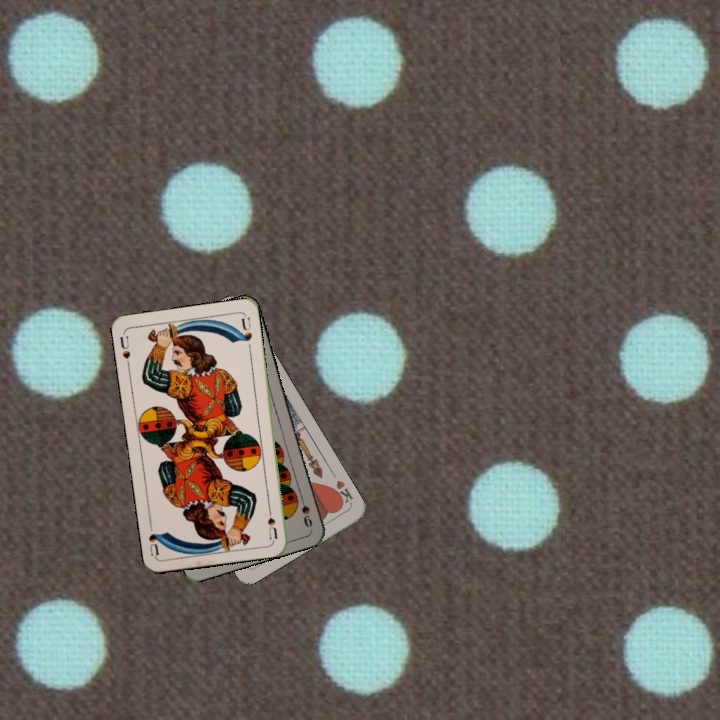HK: (328, 476, 355, 508)
S9: (296, 490, 315, 530)
SU: (263, 500, 281, 541), (116, 330, 133, 370)
